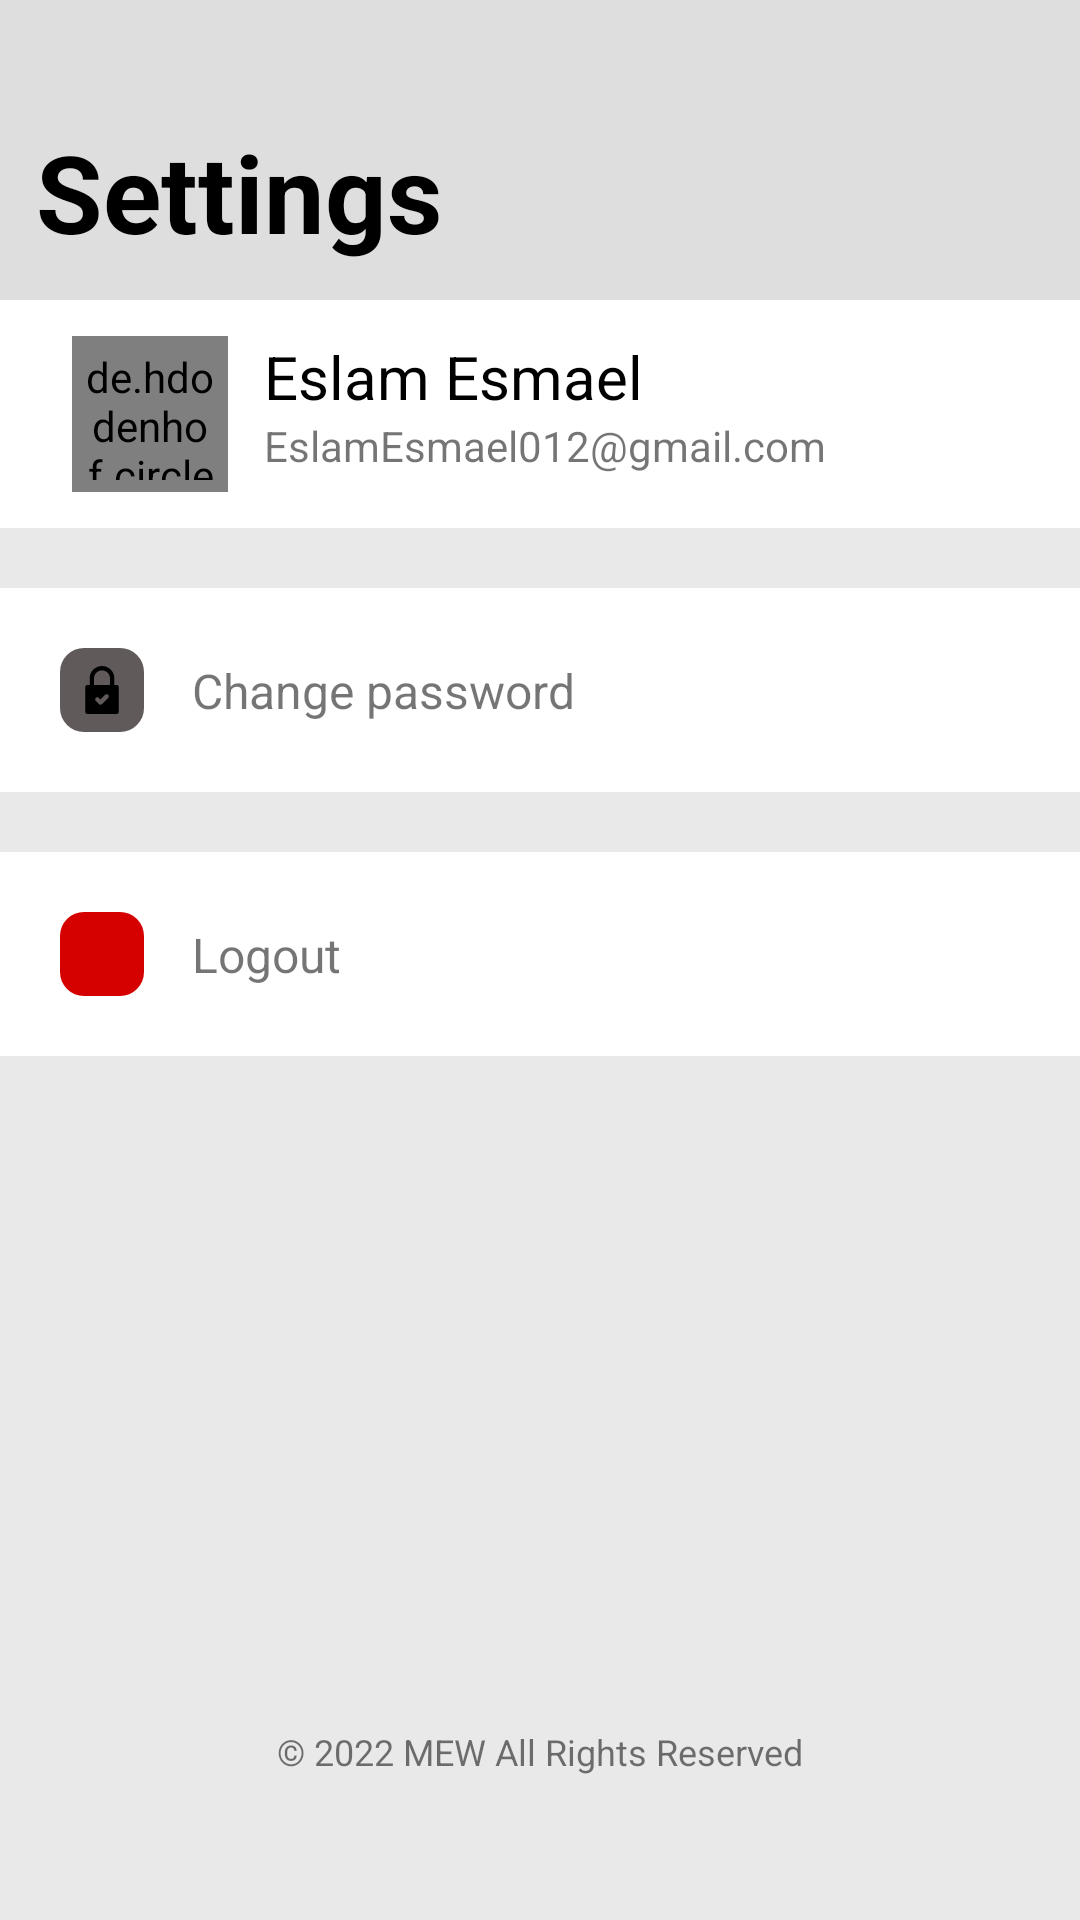

Where to tap for icons on this 1080w x 1920h app screen, as (x,y):
lock: (102,690)
